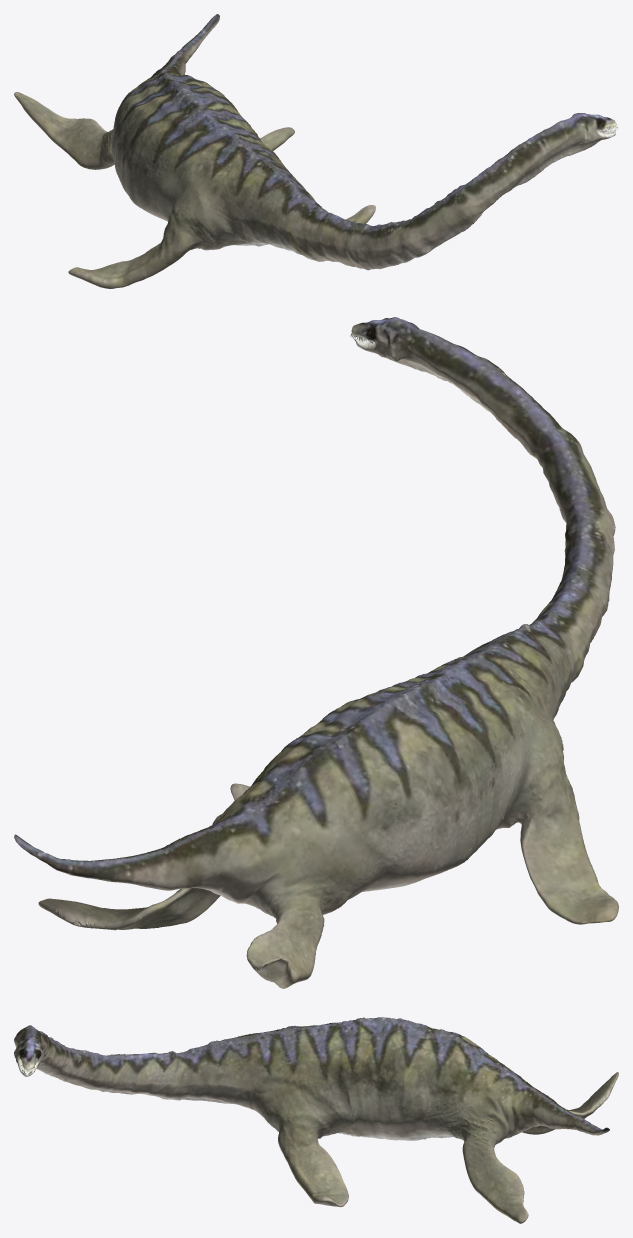
Rendered from nature-plesiosaurus.glb.
3 renders of one model, top to bottom at view 1: azimuth 30°, elevation 25°; view 2: azimuth 150°, elevation 25°; view 3: azimuth 270°, elevation 25°, orthographic. The views are drawn at different scales.
Visible parts, largest first — view 1: Object_2; view 2: Object_2; view 3: Object_2.
Boxes of the visible parts, bbox=[...] form: Object_2: bbox=[14, 14, 618, 288]; Object_2: bbox=[14, 317, 618, 988]; Object_2: bbox=[14, 1017, 618, 1223].
Size of the model in its own units: 603 by 351 by 946.
1 material, 1 textured.
